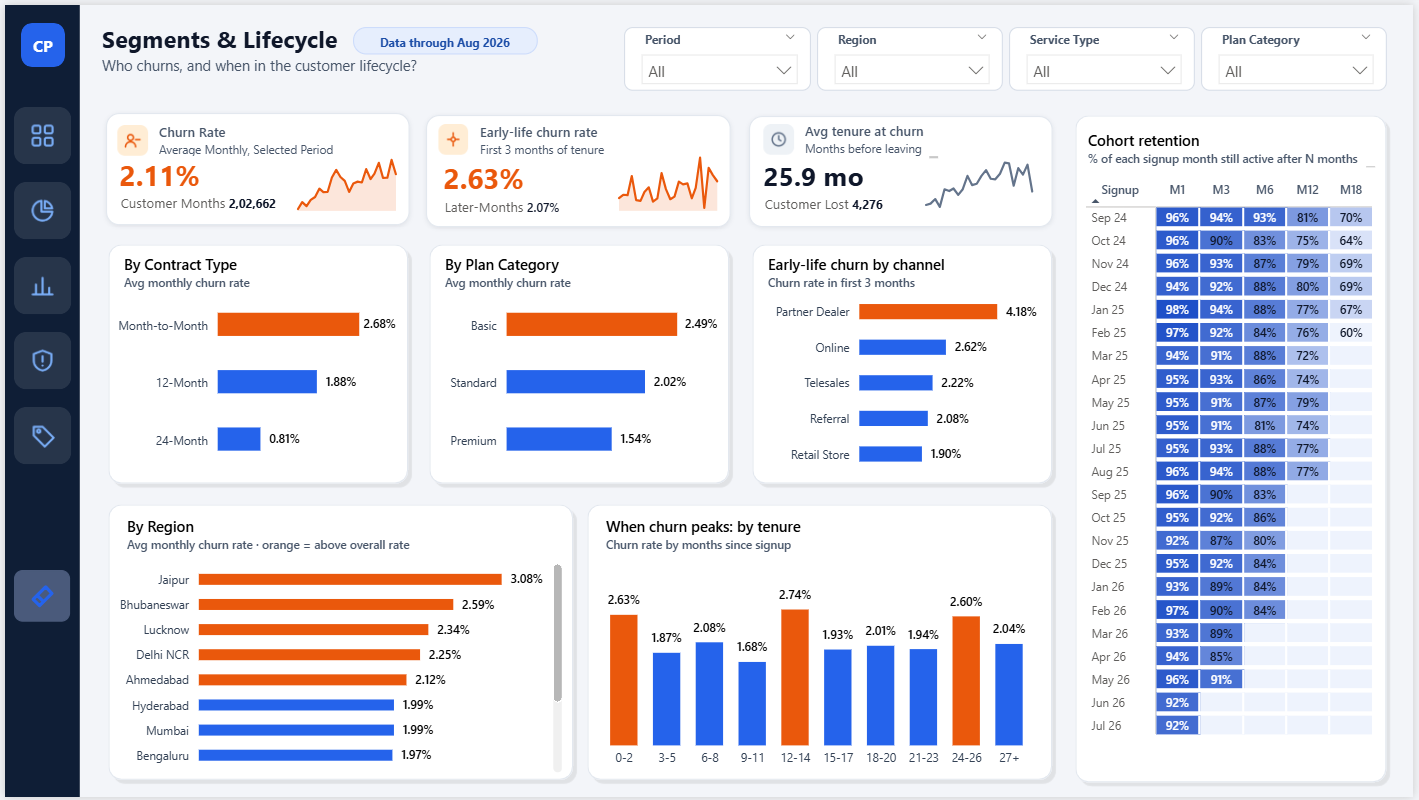

The page's visual inventory and layout, read from the dashboard file:
{"tool":"powerbi","page":{"name":"Segments","canvas":[1280,720],"ordinal":1},"visuals":[{"type":"group","id":"g1","title":"Group 3","box":[0,0,68,720],"z":0,"group":"g21"},{"type":"shape","box":[0,0,68,720],"z":0,"group":"g1"},{"type":"group","id":"g2","title":"Group 8","box":[967.6,94.8,294.2,617.9],"z":0,"group":"g19"},{"type":"group","id":"g3","title":"Group 8","box":[88,212,284,229],"z":0,"group":"g14"},{"type":"group","id":"g4","title":"Group 8","box":[380,212,284,229],"z":0,"group":"g15"},{"type":"group","id":"g5","title":"Group 8","box":[674,212,284,229],"z":0,"group":"g16"},{"type":"group","id":"g6","title":"Group 8","box":[88,448,434,262],"z":0,"group":"g17"},{"type":"group","id":"g7","title":"Group 8","box":[524,448,434,262],"z":0,"group":"g18"},{"type":"shape","box":[14,16,40,40],"z":1000,"group":"g11"},{"type":"group","id":"g8","title":"Group 11","box":[88,16,395.5,52.2],"z":1000},{"type":"textbox","title":"Segments & Lifecycle","box":[88,16,240,32],"z":1000,"group":"g8"},{"type":"textbox","title":"Cohort retention","box":[984.9,114.6,261.3,32.5],"z":1000,"group":"g19"},{"type":"textbox","title":"By Plan Category","box":[400.3,227,209.7,46.9],"z":1000,"group":"g15"},{"type":"textbox","title":"Early-life churn by channel","box":[694.3,227,209.7,46.9],"z":1000,"group":"g16"},{"type":"textbox","title":"By Contract Type","box":[108,227.3,129,46.9],"z":1000,"group":"g14"},{"type":"textbox","title":"By Region","box":[110.4,465.2,315.4,53.7],"z":1000,"group":"g17"},{"type":"textbox","title":"When churn peaks: by tenure","box":[546.4,465.2,315.4,53.7],"z":1000,"group":"g18"},{"type":"slicer","fields":{"Values":["Customer_Priority.risk_band"]},"box":[563,20,170,58],"z":2000},{"type":"textbox","title":"Who churns, and when in the customer lifecycle?","box":[88.2,46.4,380,21.8],"z":2000,"group":"g8"},{"type":"actionButton","box":[8,92,52,52],"z":2000,"group":"g10"},{"type":"clusteredBarChart","fields":{"Category":["Dim_Plan.contract_type"],"Y":["_Measures.Churn Rate %"]},"box":[96.6,250.8,258.8,178.5],"z":2000,"group":"g14"},{"type":"clusteredBarChart","fields":{"Category":["Dim_Plan.plan_category"],"Y":["_Measures.Churn Rate %"]},"box":[400,250.8,247.6,178.5],"z":2000,"group":"g15"},{"type":"clusteredBarChart","fields":{"Category":["Dim_Customers.acquisition_channel"],"Y":["_Measures.Early-Life Churn Rate %"]},"box":[694,250.8,247.6,178.5],"z":2000,"group":"g16"},{"type":"clusteredBarChart","fields":{"Category":["Dim_Region.region_name"],"Y":["_Measures.Churn Rate %"]},"box":[98.1,499.5,408.3,197.6],"z":2000,"group":"g17"},{"type":"clusteredColumnChart","fields":{"Category":["Fact_Customer_Monthly.tenure_band"],"Y":["_Measures.Churn Rate %"]},"box":[535,519,407,178],"z":2000,"group":"g18"},{"type":"cardVisual","fields":{"Data":["_Measures.Badge Text"]},"box":[316,19.5,167.5,24.5],"z":3000,"group":"g8"},{"type":"slicer","fields":{"Values":["Customer_Priority.region_name"]},"box":[738.3,20,169,58],"z":3000},{"type":"shape","box":[967.6,94.8,294.2,617.9],"z":3000,"group":"g2"},{"type":"actionButton","box":[8,160.2,52,52],"z":3000,"group":"g10"},{"type":"shape","box":[88,212,284,229],"z":3000,"group":"g3"},{"type":"shape","box":[380,212,284,229],"z":3000,"group":"g4"},{"type":"shape","box":[674,212,284,229],"z":3000,"group":"g5"},{"type":"shape","box":[88,448,434,262],"z":3000,"group":"g6"},{"type":"shape","box":[524,448,434,262],"z":3000,"group":"g7"},{"type":"slicer","fields":{"Values":["Customer_Priority.service_type"]},"box":[912.7,20,169,58],"z":4000},{"type":"actionButton","box":[8,228.5,52,52],"z":4000,"group":"g10"},{"type":"slicer","fields":{"Values":["Customer_Priority.plan_category"]},"box":[1087,20,169,58],"z":5000},{"type":"actionButton","box":[8,296.8,52,52],"z":5000,"group":"g10"},{"type":"group","id":"g9","title":"Group 4","box":[88,98.3,279.8,103.7],"z":6000},{"type":"actionButton","box":[8,365,52,52],"z":6000,"group":"g10"},{"type":"group","id":"g10","title":"Group 1","box":[8,92,52,325],"z":6001,"group":"g11"},{"type":"group","id":"g11","title":"Group 2","box":[8,16,52,401],"z":6002,"group":"g1"},{"type":"group","id":"g12","title":"Group 4","box":[382.9,100,277.7,107.3],"z":7000},{"type":"group","id":"g13","title":"Group 4","box":[673.9,101.1,279.6,103.3],"z":8000},{"type":"group","id":"g14","title":"Group 5","box":[88,212,284,229],"z":9000},{"type":"group","id":"g15","title":"Group 5","box":[380,212,284,229],"z":10000},{"type":"group","id":"g16","title":"Group 5","box":[674,212,284,229],"z":11000},{"type":"group","id":"g17","title":"Group 5","box":[88,448,434,262],"z":12000},{"type":"group","id":"g18","title":"Group 5","box":[524,448,434,262],"z":13000},{"type":"group","id":"g19","title":"Group 5","box":[967.6,94.8,294.4,618],"z":14000,"group":"g20"},{"type":"pivotTable","fields":{"Rows":["Cohort_Retention.signup_cohort_month"],"Columns":["Cohort_Retention.month_label"],"Values":["Avg(Cohort_Retention.retention_pct)"]},"box":[983.5,159.4,268.8,531],"z":15000,"group":"g20"},{"type":"actionButton","box":[8,514,51,47],"z":15000,"group":"g21"},{"type":"group","id":"g20","title":"Group 6","box":[967.6,94.8,294.4,618],"z":15001},{"type":"group","id":"g21","title":"Group 7","box":[0,0,68,720],"z":15002},{"type":"shape","box":[91.9,98.3,275.9,101.6],"z":16000,"group":"g9"},{"type":"shape","box":[383.3,100,277.2,101.9],"z":16000,"group":"g12"},{"type":"shape","box":[677.1,101.1,276.5,101.1],"z":16000,"group":"g13"},{"type":"cardVisual","fields":{"Data":["_Measures.Churn Rate %"]},"box":[88,132,190,70],"z":17000,"group":"g9"},{"type":"cardVisual","fields":{"Data":["_Measures.Avg Tenure at Churn (Months)"]},"box":[673.9,132.4,152,72.1],"z":17000,"group":"g13"},{"type":"cardVisual","fields":{"Data":["_Measures.Early-Life Churn Rate %"]},"box":[382.9,134.7,148,72.7],"z":17000,"group":"g12"},{"type":"image","box":[686.4,108.2,33.5,27.7],"z":18000,"group":"g13"},{"type":"image","box":[389.9,108.3,35,27.9],"z":18000,"group":"g12"},{"type":"image","box":[99.2,108.8,34.7,28.2],"z":18000,"group":"g9"},{"type":"textbox","title":"Avg tenure at churn","box":[727.7,106.7,120.6,32.5],"z":19000,"group":"g13"},{"type":"textbox","title":"Churn Rate","box":[140.2,107,177.5,30],"z":19000,"group":"g9"},{"type":"textbox","title":"Early-life churn rate","box":[431.6,107.3,119.9,30.9],"z":19000,"group":"g12"},{"type":"lineChart","fields":{"Category":["Dim_Date.month_start_date"],"Y":["_Measures.Churn Rate %"]},"box":[256,118,109,69],"z":20000,"group":"g9"},{"type":"lineChart","fields":{"Category":["Dim_Date.month_start_date"],"Y":["_Measures.Early-Life Churn Rate %"]},"box":[547.9,129.3,109.3,58.1],"z":20000,"group":"g12"},{"type":"lineChart","fields":{"Category":["Dim_Date.month_start_date"],"Y":["_Measures.Avg Tenure at Churn (Months)"]},"box":[827.5,132.1,116.6,58.5],"z":20000,"group":"g13"}]}

Visuals, with their boxes on the page's 1280x720 design canvas (x1, y1, x2, y2). These are canvas units, not pixel positions in the 1419x800 screenshot, which may show the page scaled, cropped or inside an application window:
"Group 3" group: box=[0, 0, 68, 720]
shape: box=[0, 0, 68, 720]
"Group 8" group: box=[968, 95, 1262, 713]
"Group 8" group: box=[88, 212, 372, 441]
"Group 8" group: box=[380, 212, 664, 441]
"Group 8" group: box=[674, 212, 958, 441]
"Group 8" group: box=[88, 448, 522, 710]
"Group 8" group: box=[524, 448, 958, 710]
shape: box=[14, 16, 54, 56]
"Group 11" group: box=[88, 16, 484, 68]
"Segments & Lifecycle" textbox: box=[88, 16, 328, 48]
"Cohort retention" textbox: box=[985, 115, 1246, 147]
"By Plan Category" textbox: box=[400, 227, 610, 274]
"Early-life churn by channel" textbox: box=[694, 227, 904, 274]
"By Contract Type" textbox: box=[108, 227, 237, 274]
"By Region" textbox: box=[110, 465, 426, 519]
"When churn peaks: by tenure" textbox: box=[546, 465, 862, 519]
slicer - Customer_Priority.risk_band: box=[563, 20, 733, 78]
"Who churns, and when in the customer lifecycle?" textbox: box=[88, 46, 468, 68]
actionButton: box=[8, 92, 60, 144]
clusteredBarChart - Dim_Plan.contract_type x _Measures.Churn Rate %: box=[97, 251, 355, 429]
clusteredBarChart - Dim_Plan.plan_category x _Measures.Churn Rate %: box=[400, 251, 648, 429]
clusteredBarChart - Dim_Customers.acquisition_channel x _Measures.Early-Life Churn Rate %: box=[694, 251, 942, 429]
clusteredBarChart - Dim_Region.region_name x _Measures.Churn Rate %: box=[98, 500, 506, 697]
clusteredColumnChart - Fact_Customer_Monthly.tenure_band x _Measures.Churn Rate %: box=[535, 519, 942, 697]
cardVisual - _Measures.Badge Text: box=[316, 20, 484, 44]
slicer - Customer_Priority.region_name: box=[738, 20, 907, 78]
shape: box=[968, 95, 1262, 713]
actionButton: box=[8, 160, 60, 212]
shape: box=[88, 212, 372, 441]
shape: box=[380, 212, 664, 441]
shape: box=[674, 212, 958, 441]
shape: box=[88, 448, 522, 710]
shape: box=[524, 448, 958, 710]
slicer - Customer_Priority.service_type: box=[913, 20, 1082, 78]
actionButton: box=[8, 228, 60, 280]
slicer - Customer_Priority.plan_category: box=[1087, 20, 1256, 78]
actionButton: box=[8, 297, 60, 349]
"Group 4" group: box=[88, 98, 368, 202]
actionButton: box=[8, 365, 60, 417]
"Group 1" group: box=[8, 92, 60, 417]
"Group 2" group: box=[8, 16, 60, 417]
"Group 4" group: box=[383, 100, 661, 207]
"Group 4" group: box=[674, 101, 954, 204]
"Group 5" group: box=[88, 212, 372, 441]
"Group 5" group: box=[380, 212, 664, 441]
"Group 5" group: box=[674, 212, 958, 441]
"Group 5" group: box=[88, 448, 522, 710]
"Group 5" group: box=[524, 448, 958, 710]
"Group 5" group: box=[968, 95, 1262, 713]
pivotTable - Cohort_Retention.signup_cohort_month x Cohort_Retention.month_label: box=[984, 159, 1252, 690]
actionButton: box=[8, 514, 59, 561]
"Group 6" group: box=[968, 95, 1262, 713]
"Group 7" group: box=[0, 0, 68, 720]
shape: box=[92, 98, 368, 200]
shape: box=[383, 100, 660, 202]
shape: box=[677, 101, 954, 202]
cardVisual - _Measures.Churn Rate %: box=[88, 132, 278, 202]
cardVisual - _Measures.Avg Tenure at Churn (Months): box=[674, 132, 826, 204]
cardVisual - _Measures.Early-Life Churn Rate %: box=[383, 135, 531, 207]
image: box=[686, 108, 720, 136]
image: box=[390, 108, 425, 136]
image: box=[99, 109, 134, 137]
"Avg tenure at churn" textbox: box=[728, 107, 848, 139]
"Churn Rate" textbox: box=[140, 107, 318, 137]
"Early-life churn rate" textbox: box=[432, 107, 552, 138]
lineChart - Dim_Date.month_start_date x _Measures.Churn Rate %: box=[256, 118, 365, 187]
lineChart - Dim_Date.month_start_date x _Measures.Early-Life Churn Rate %: box=[548, 129, 657, 187]
lineChart - Dim_Date.month_start_date x _Measures.Avg Tenure at Churn (Months): box=[828, 132, 944, 191]
